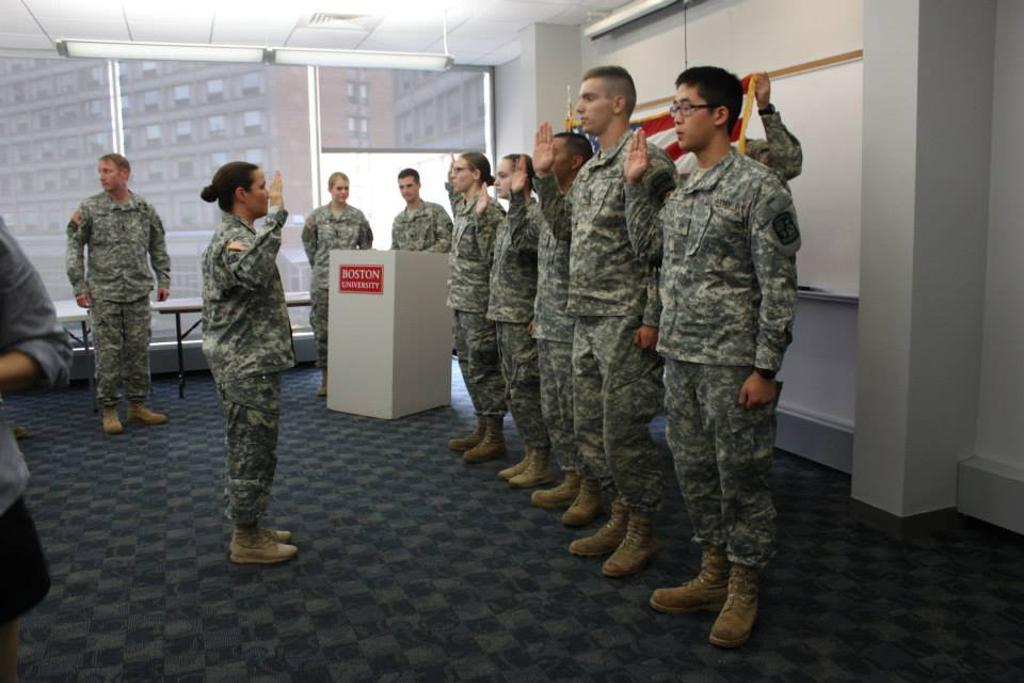face: (672, 85, 709, 148), (575, 80, 610, 133), (246, 171, 271, 216), (494, 160, 515, 197), (449, 159, 473, 191), (547, 138, 570, 170), (98, 161, 117, 192), (399, 179, 416, 201), (332, 180, 348, 202)
